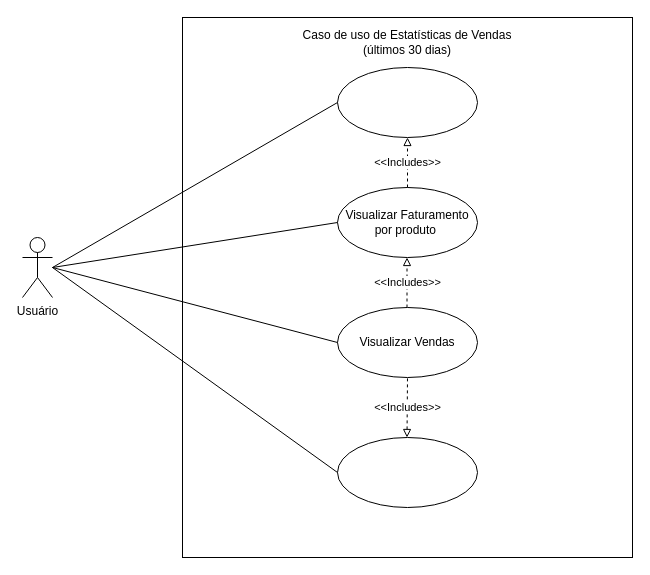
Some shapes in this 650 by 575 pixel diagram are drawn without their labels. Each missing label, with the centre of its shape:
"Visualizar Faturamento total" belongs at [407,102].
"Visualizar Itens mais vendidos" belongs at [407,472].
